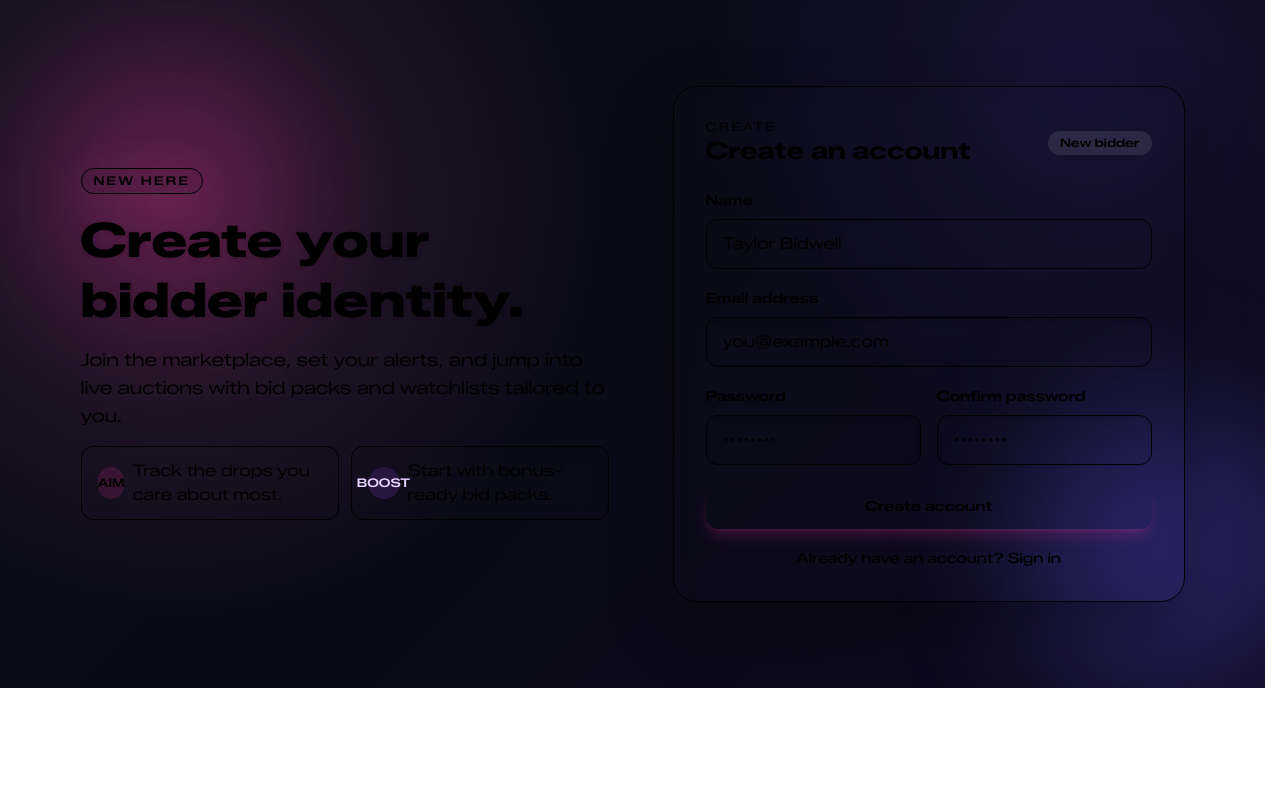
Test case: SignUpForm › links local validation errors via aria-describedby and focuses the first invalid field
The width and height of the screenshot is (1280, 800).
In the field labelled "Name": (928, 244) [706,219,1152,269], type "Test User"
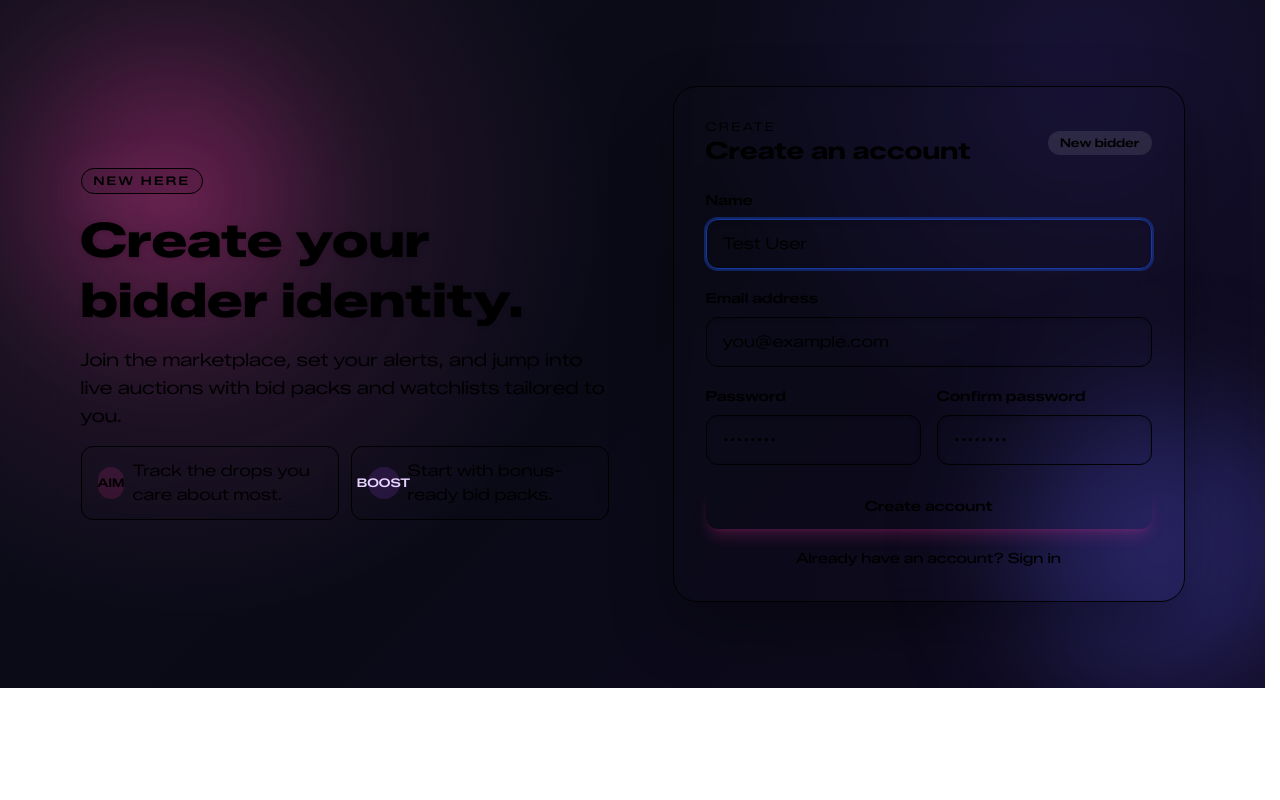
In the field labelled "Email address": (928, 342) [706,317,1152,367], type "test@example.com"
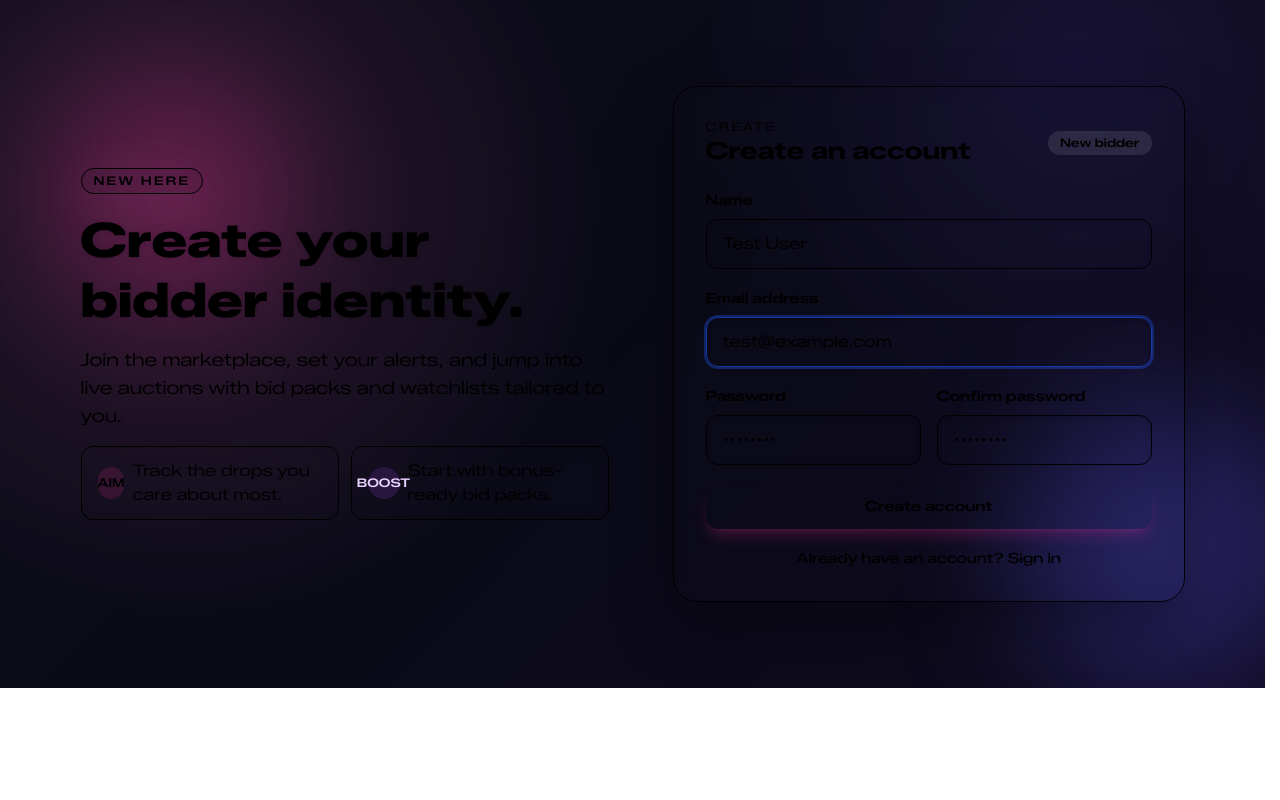
In the password field labelled "Password": (813, 440) [706,415,920,465], type "password123"
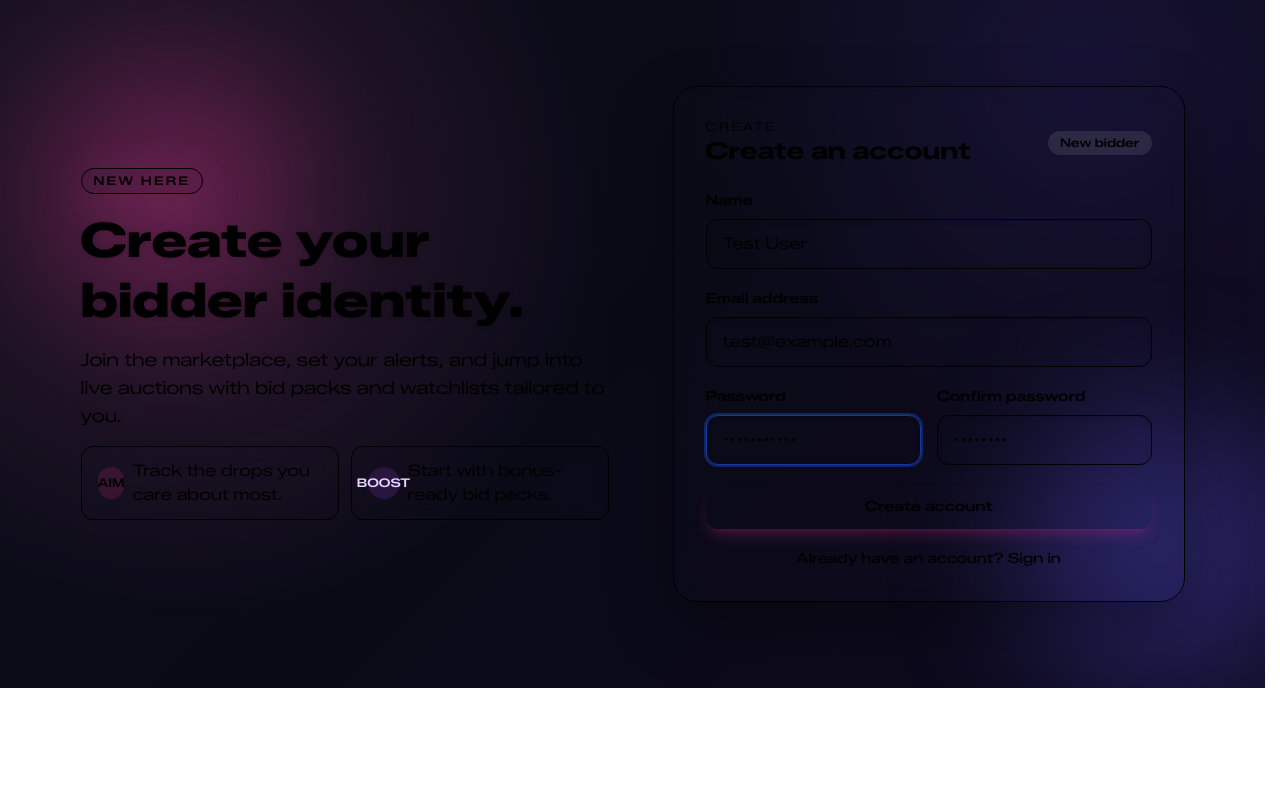
In the password field labelled "Confirm password": (1044, 440) [936,415,1152,465], type "nope"
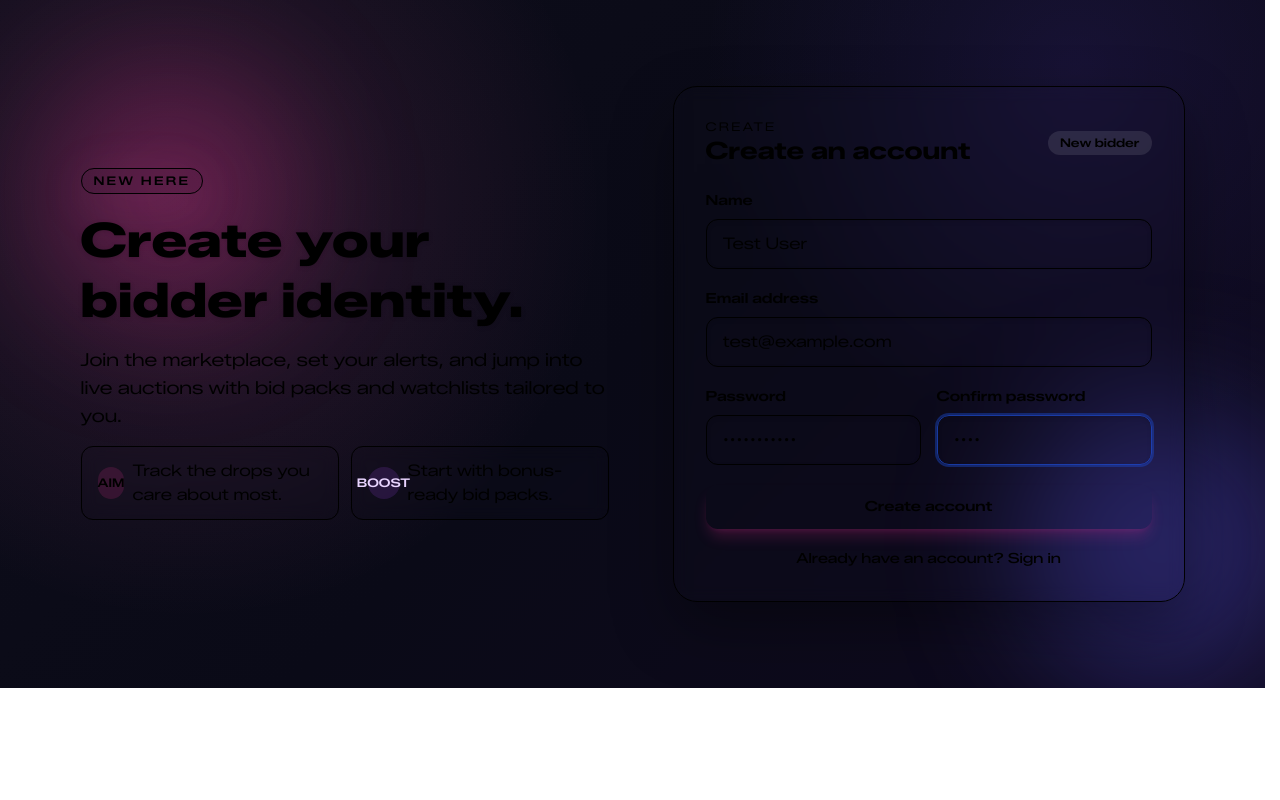
Click the button "Create account": (928, 507) [706,485,1152,529]
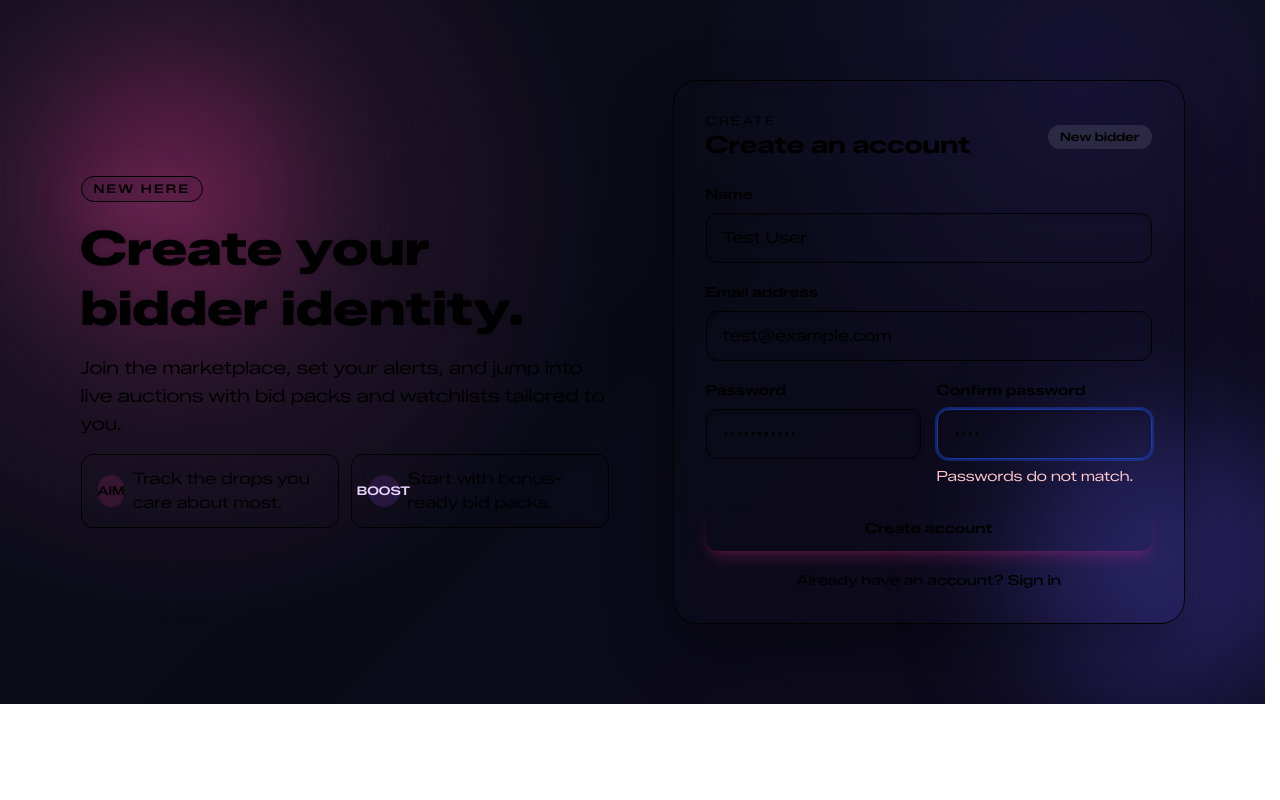
Expected: the text "Passwords do not match." is shown, [936,467,1152,487]
